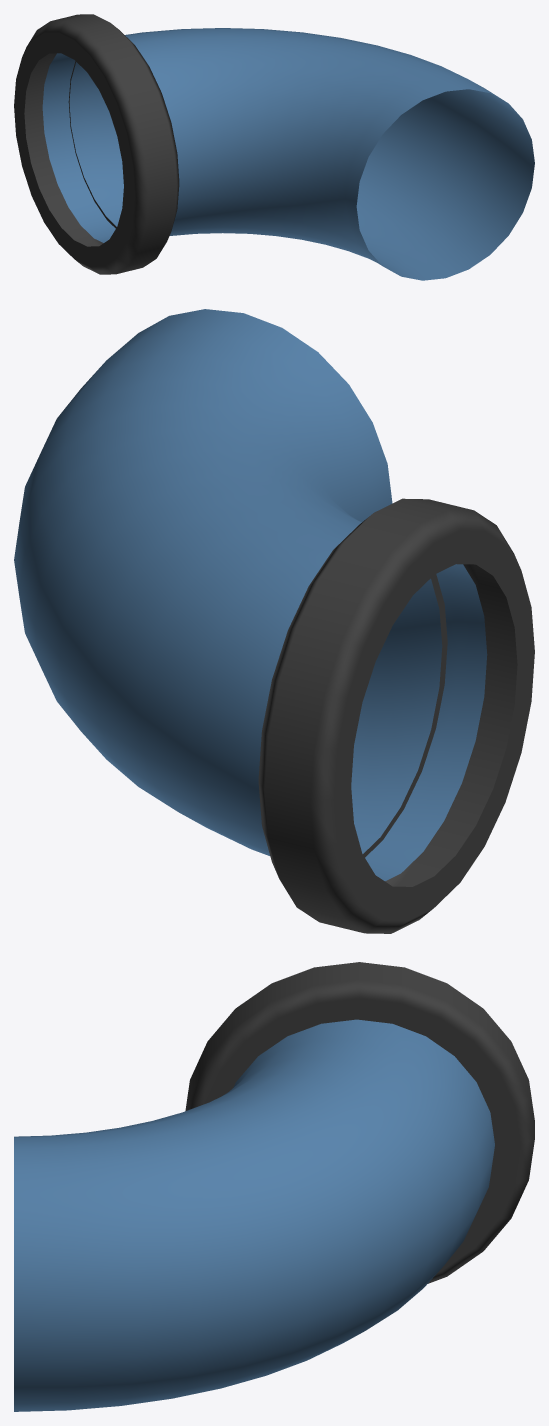
File: Pipe_Bend_0.5m.fbx
The picture shows the model from 3 angles, top to bottom: view 1: azimuth 30°, elevation 25°; view 2: azimuth 150°, elevation 25°; view 3: azimuth 270°, elevation 25°; orthographic projection. The views are drawn at different scales.
Visible parts, largest first — view 1: Pipe_Bend_0.5m; view 2: Pipe_Bend_0.5m; view 3: Pipe_Bend_0.5m.
Part boxes in pixels (x1,y1,x2,y2): Pipe_Bend_0.5m: (14, 14, 534, 280); Pipe_Bend_0.5m: (14, 309, 534, 933); Pipe_Bend_0.5m: (14, 962, 534, 1411).
Size of the model in its own units: 74.45 by 50.8 by 75.4.
